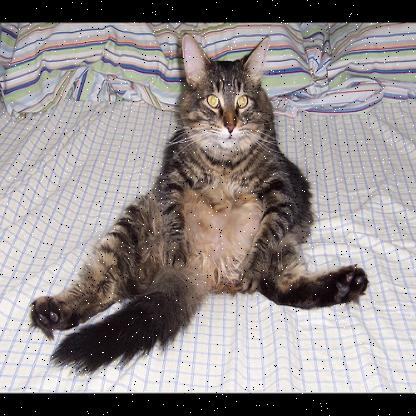cat: (44, 34, 369, 373)
